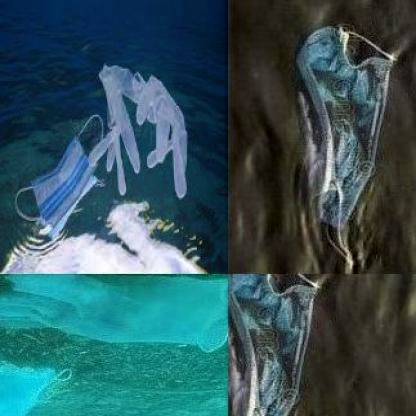Mask: (292, 28, 398, 271), (228, 274, 323, 415), (13, 110, 104, 242), (0, 358, 76, 415)
glove: (0, 274, 227, 356), (135, 62, 192, 200), (89, 64, 142, 198)
